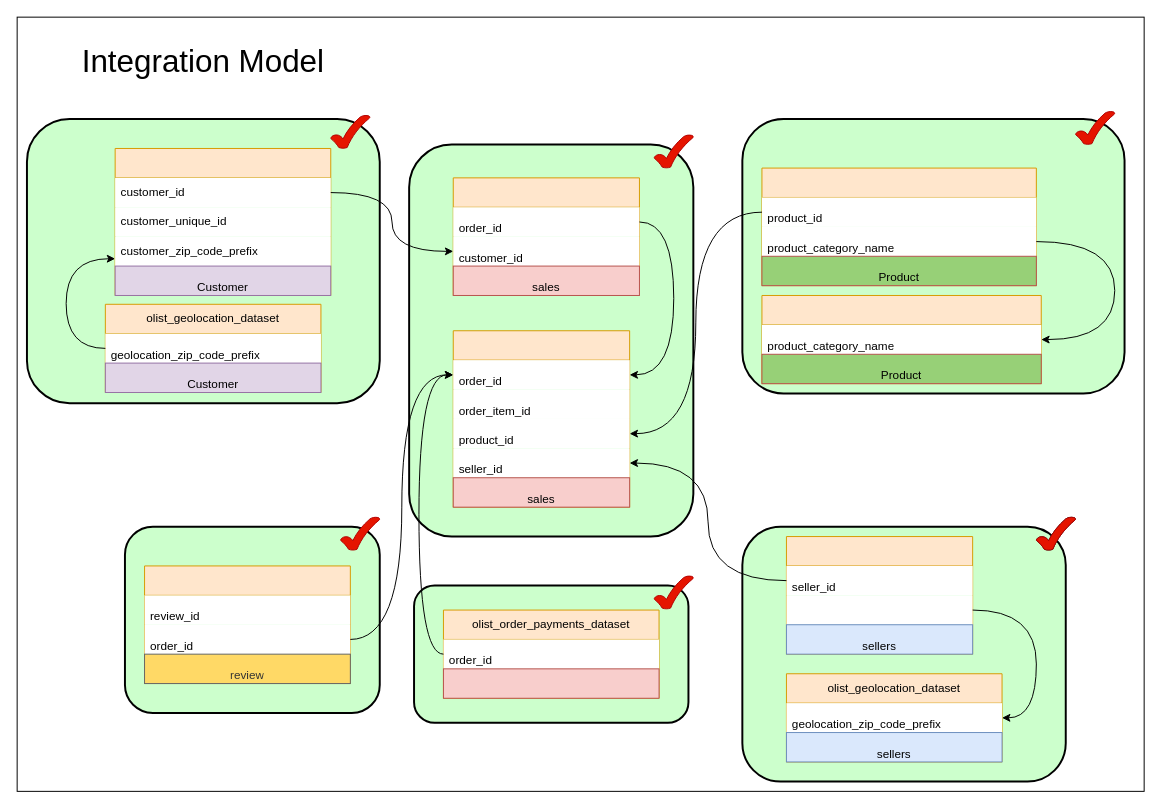
The diagram is 1161 pixels wide and 809 high, and some of its shapes have lost their labels. Each missing label, with the box of its shape:
olist_customers_dataset: (114, 147, 331, 295)
olist_order_items_dataset: (452, 330, 630, 507)
olist_order_reviews_dataset: (144, 565, 350, 684)
olist_orders_dataset: (452, 177, 639, 295)
olist_products_dataset: (761, 167, 1036, 286)
olist_sellers_dataset: (785, 536, 973, 654)
payments: (442, 668, 659, 698)
product_category_name_translation: (761, 294, 1041, 384)
seller_zip_code_prefix: (786, 595, 972, 624)
